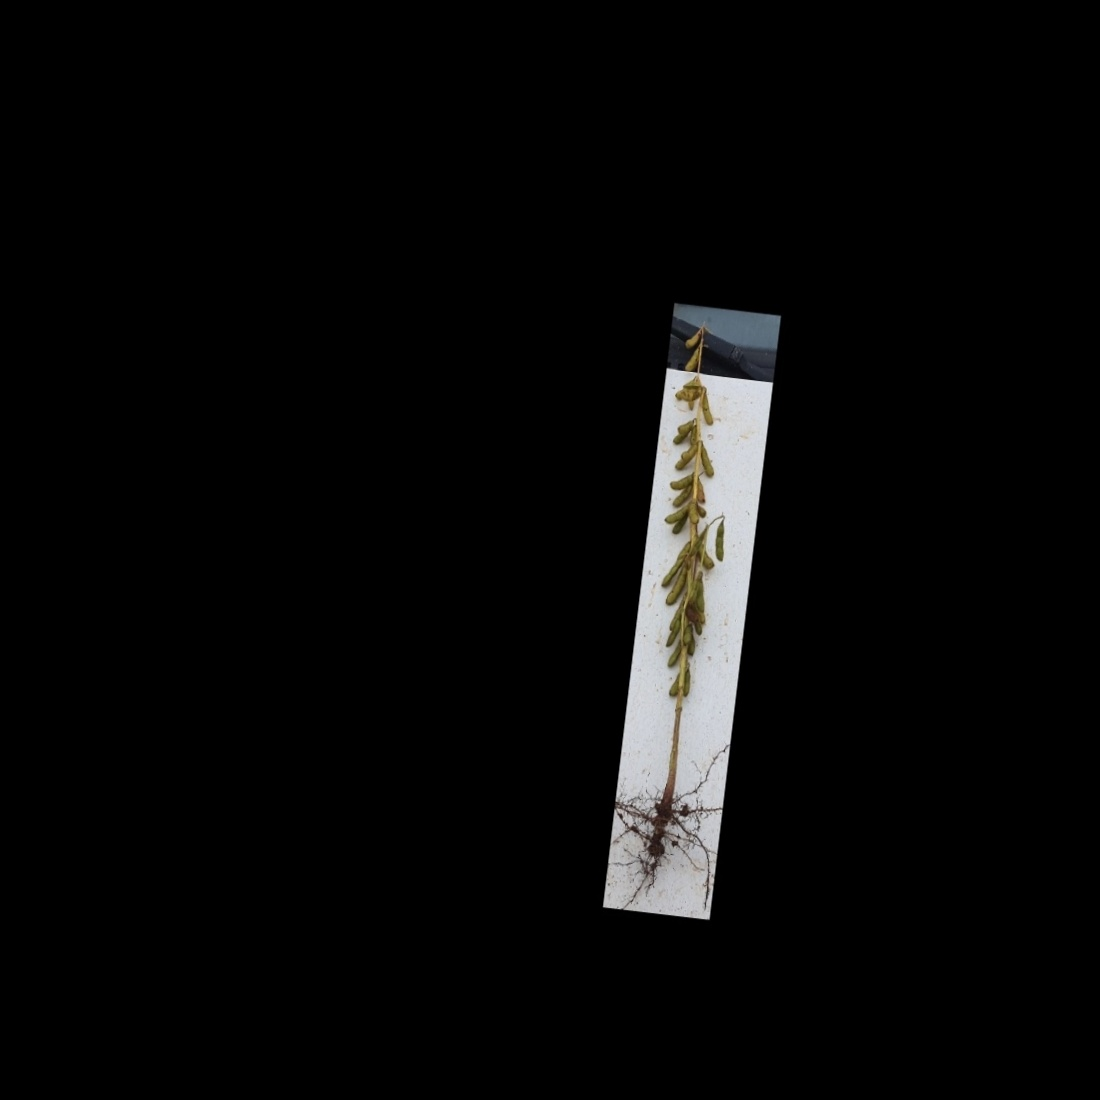pod: (664, 564, 686, 610), (710, 517, 730, 563), (697, 441, 719, 480), (698, 387, 719, 425), (673, 482, 693, 508), (667, 636, 682, 669), (684, 343, 701, 373), (668, 671, 683, 701), (686, 499, 702, 526), (682, 668, 695, 698)
soy: (612, 312, 766, 887)
